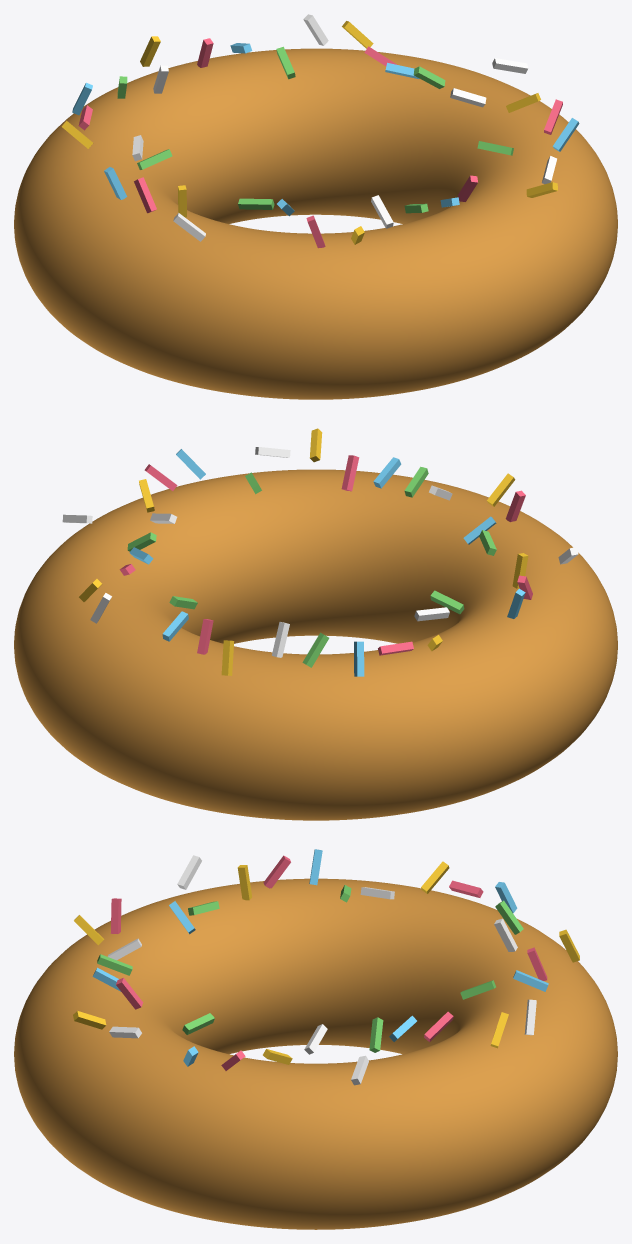
File: donut.glb
The picture shows the model from 3 angles, top to bottom: view 1: azimuth 30°, elevation 25°; view 2: azimuth 150°, elevation 25°; view 3: azimuth 270°, elevation 25°; orthographic projection.
Size of the model in its own units: 2.76 by 0.9127 by 2.76.
